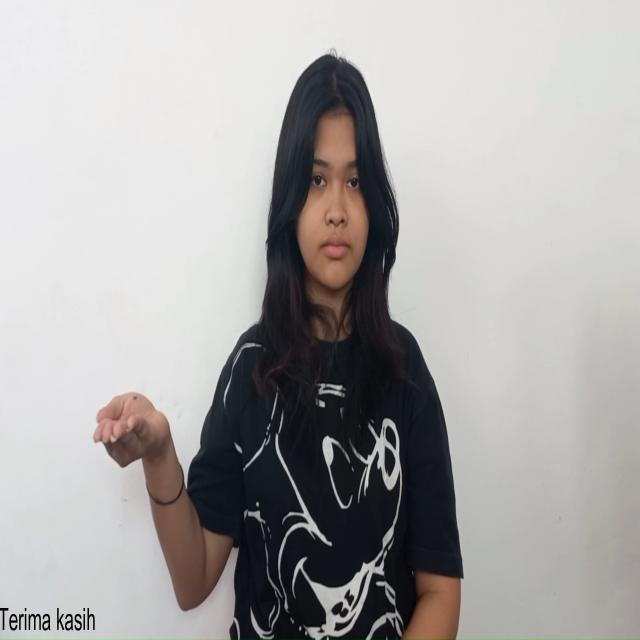Terima kasih -BISINDO-: (90, 387, 174, 477)
